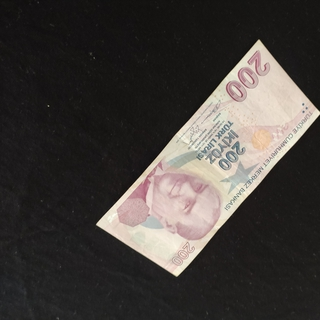200TLFront: (95, 38, 320, 277)
